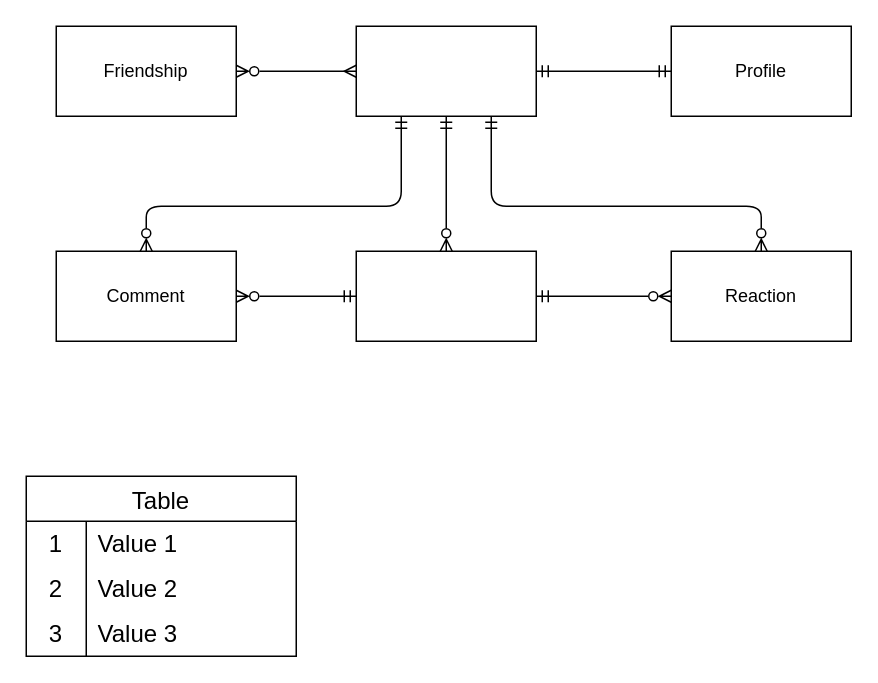
Image size: 878x683. Some labels were removed from this diagram. The centre of each missing label's shape, as x and y in pixels:
"Post" belongs at (445,295).
"User" belongs at (445,70).
